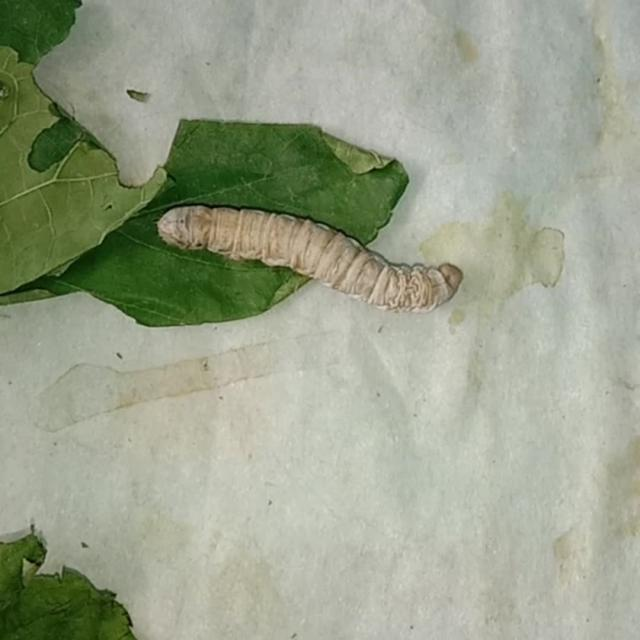Grasserie: (143, 162, 502, 330)
